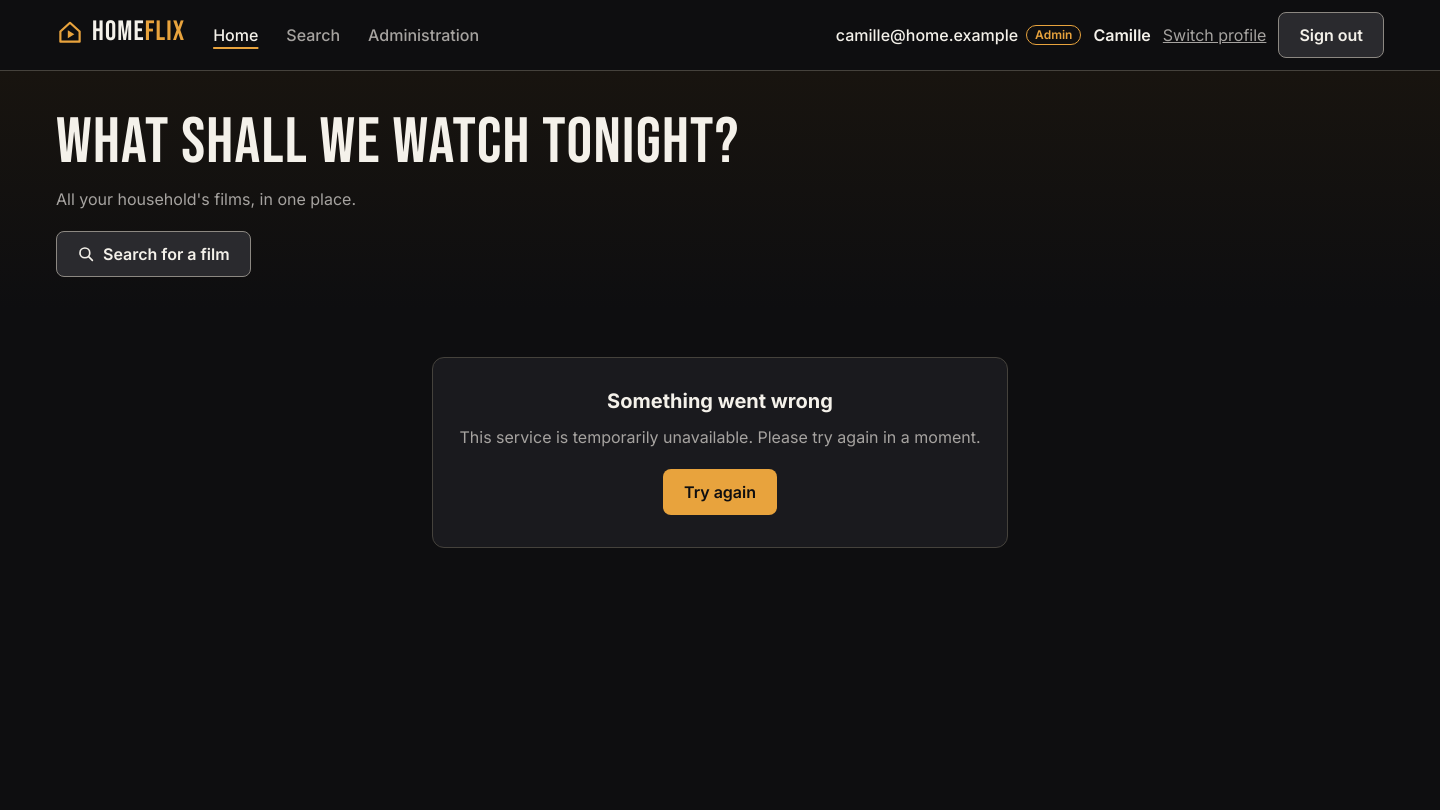
HomePage › shows an error with a retry button
This screenshot has width=1440, height=810.
Expected: the message shows "temporarily unavailable", [460,427,980,447]
Click the button "Try again".
click(720, 492)  # box [663,469,777,515]
(page scrolled)
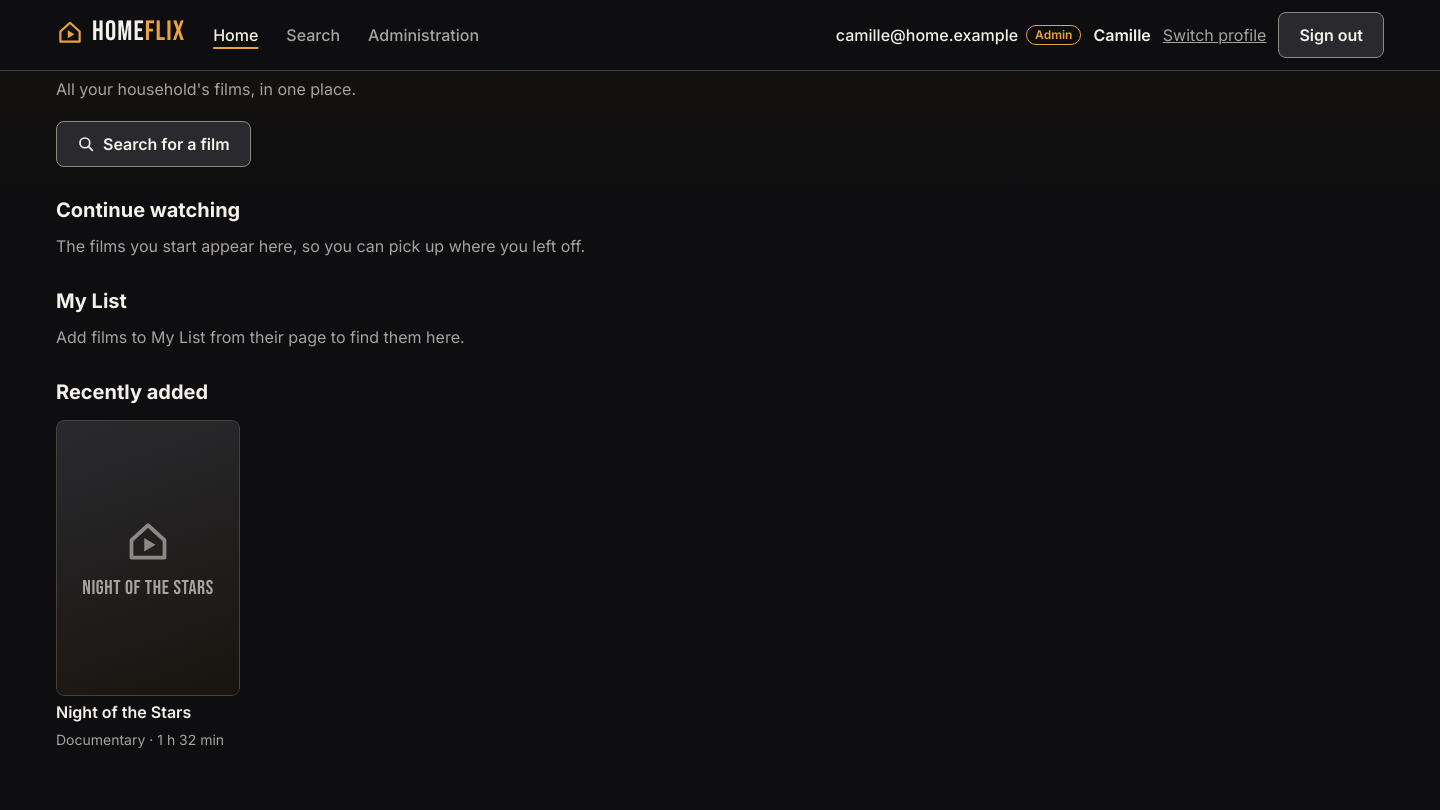
Expected: the element "Recently added" is shown, [56,380,240,748]
